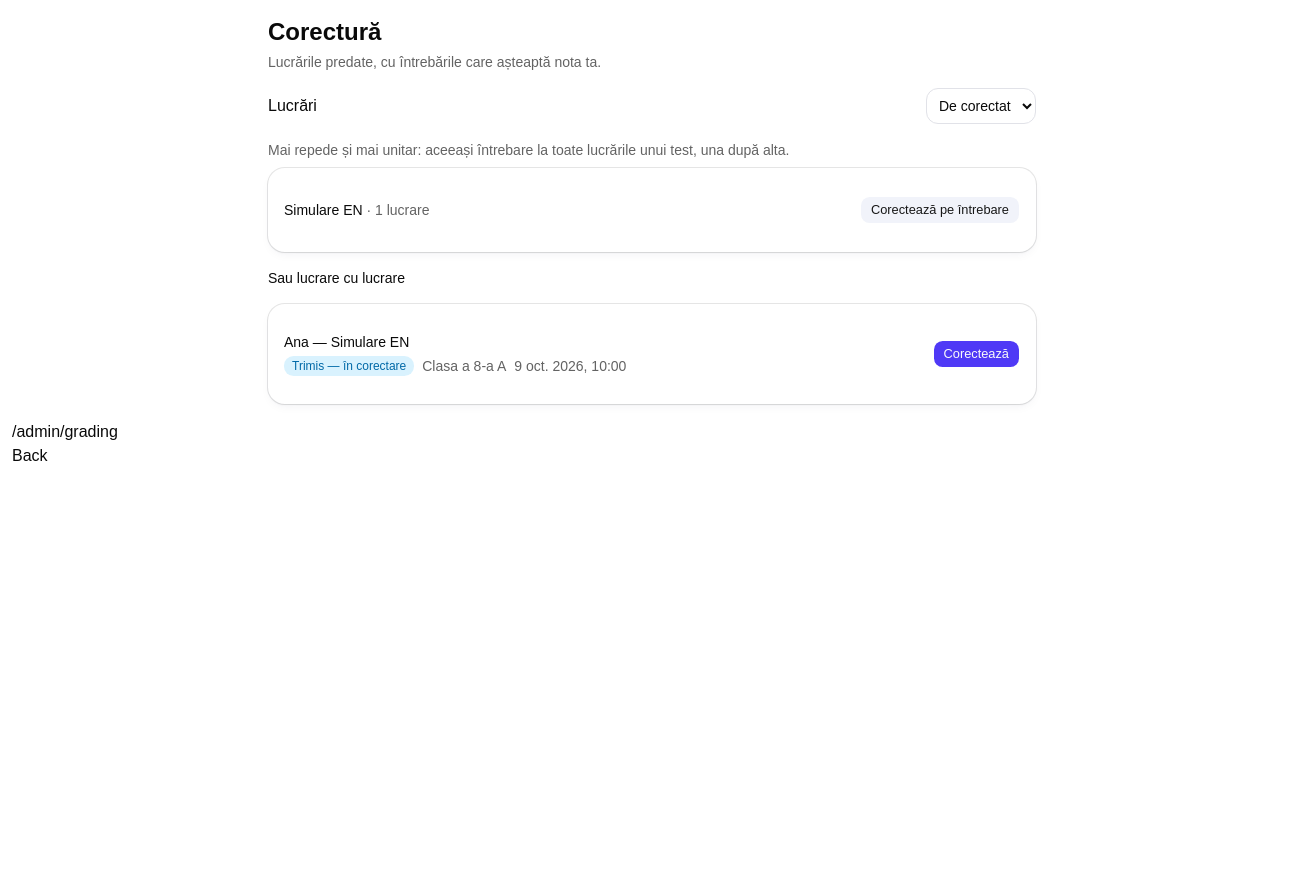
Test: AdminGradingPage › adds a saved comment with one tap and keeps a new one for next time
The width and height of the screenshot is (1292, 890).
Step 1. Click the button with test id "attempt-open" → (976, 354), box [932,340,1020,368]
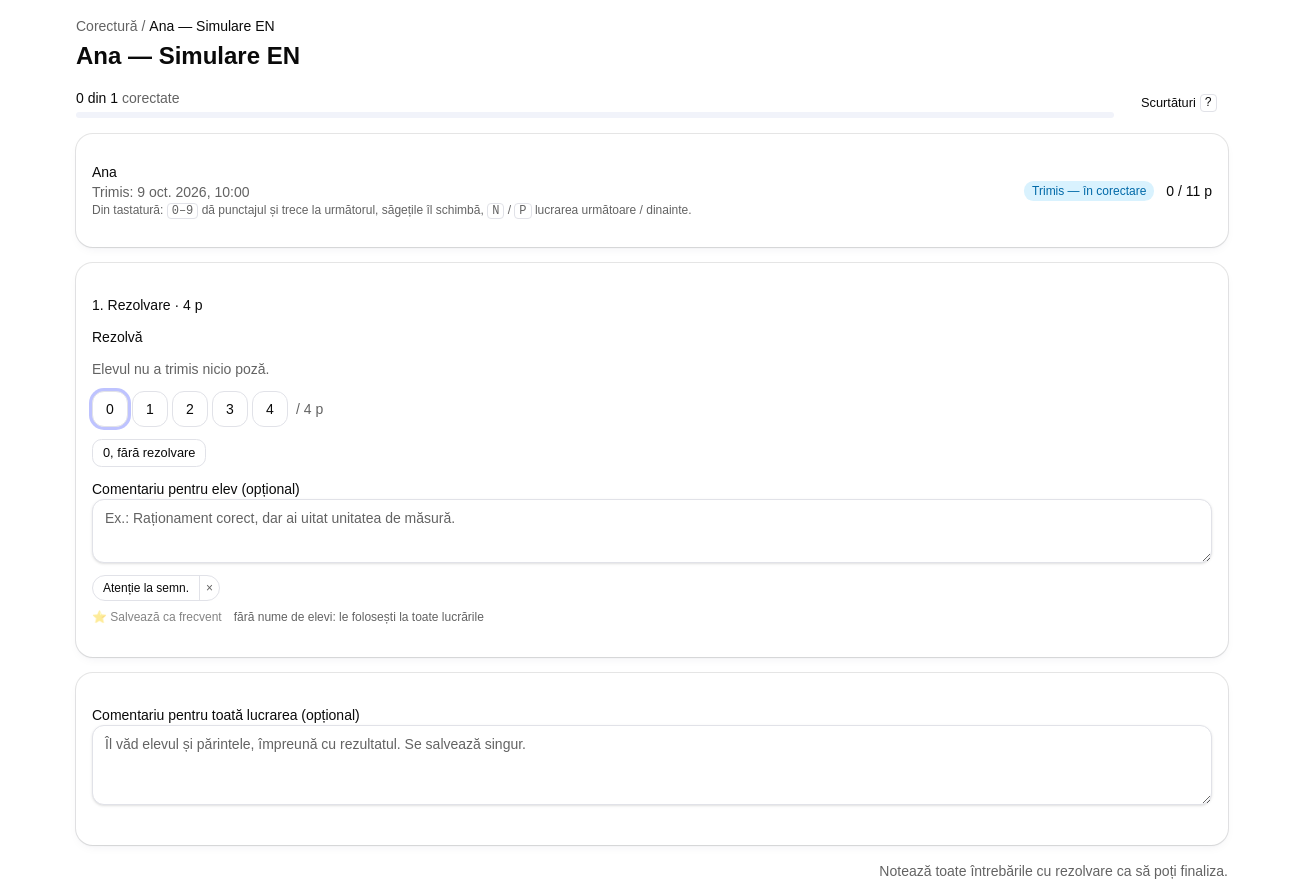
Expected: the text "Rezolvă" is shown, [92,329,143,345]
Step 2. Click the button "Atenție la semn." → (146, 588), box [93,576,199,600]
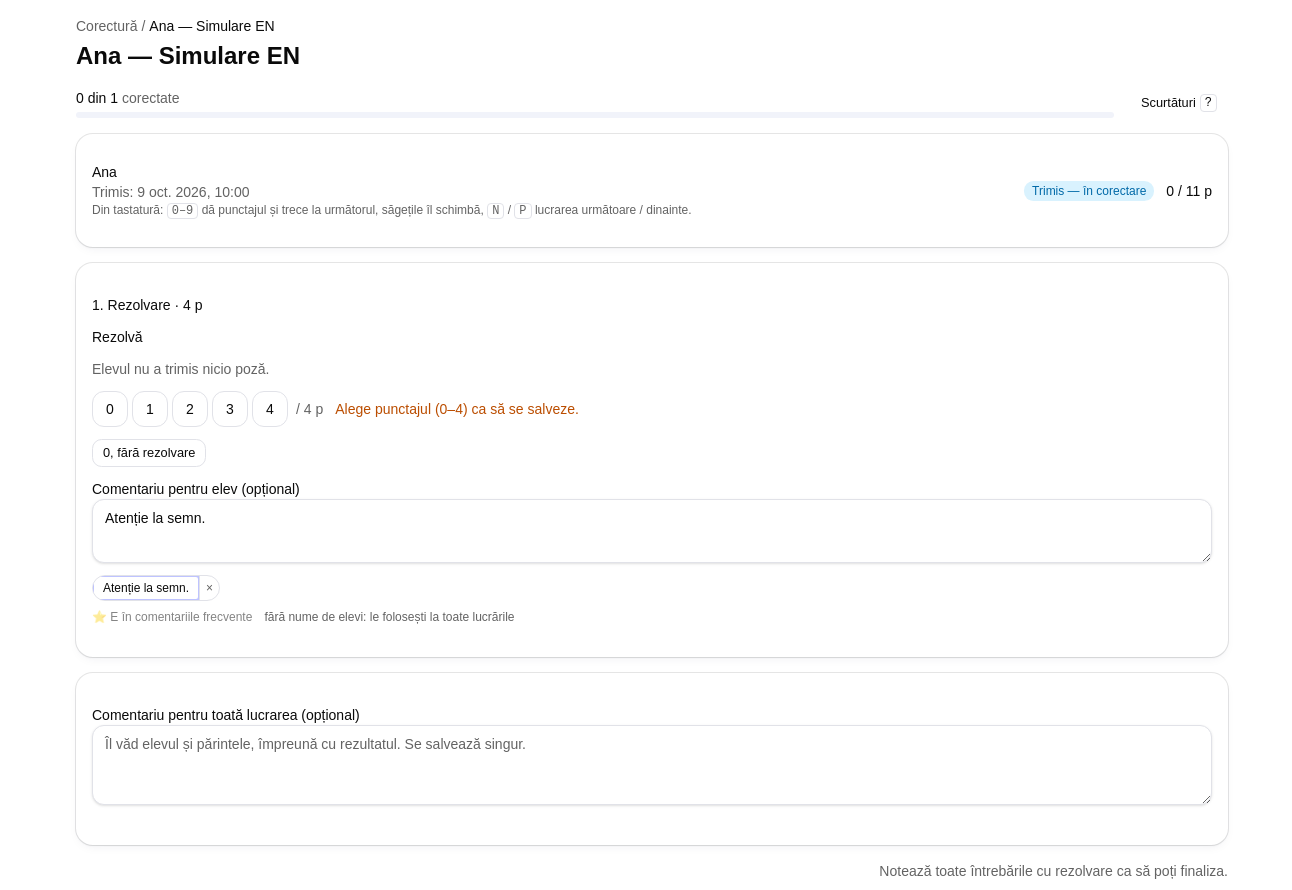
Expected: the text box labelled "Comentariu pentru elev (opțional)" holds "Atenție la semn."
Step 3. Replace the text in the text box labelled "Comentariu pentru elev (opțional)" with "Lipsește unitatea." → (652, 531), box [92,499,1212,563]
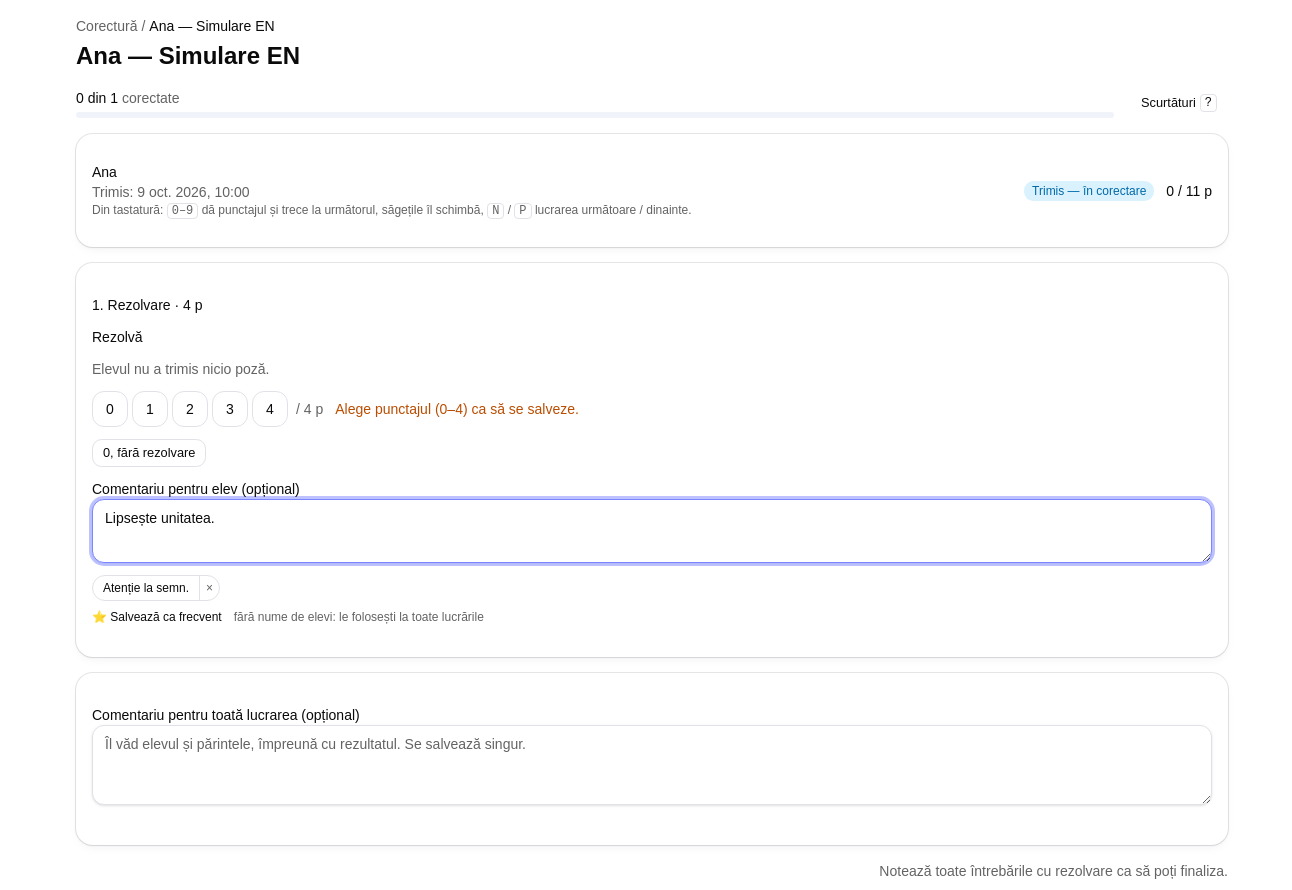
Step 4. Click the button "⭐ Salvează ca frecvent" → (157, 617), box [92,609,222,625]
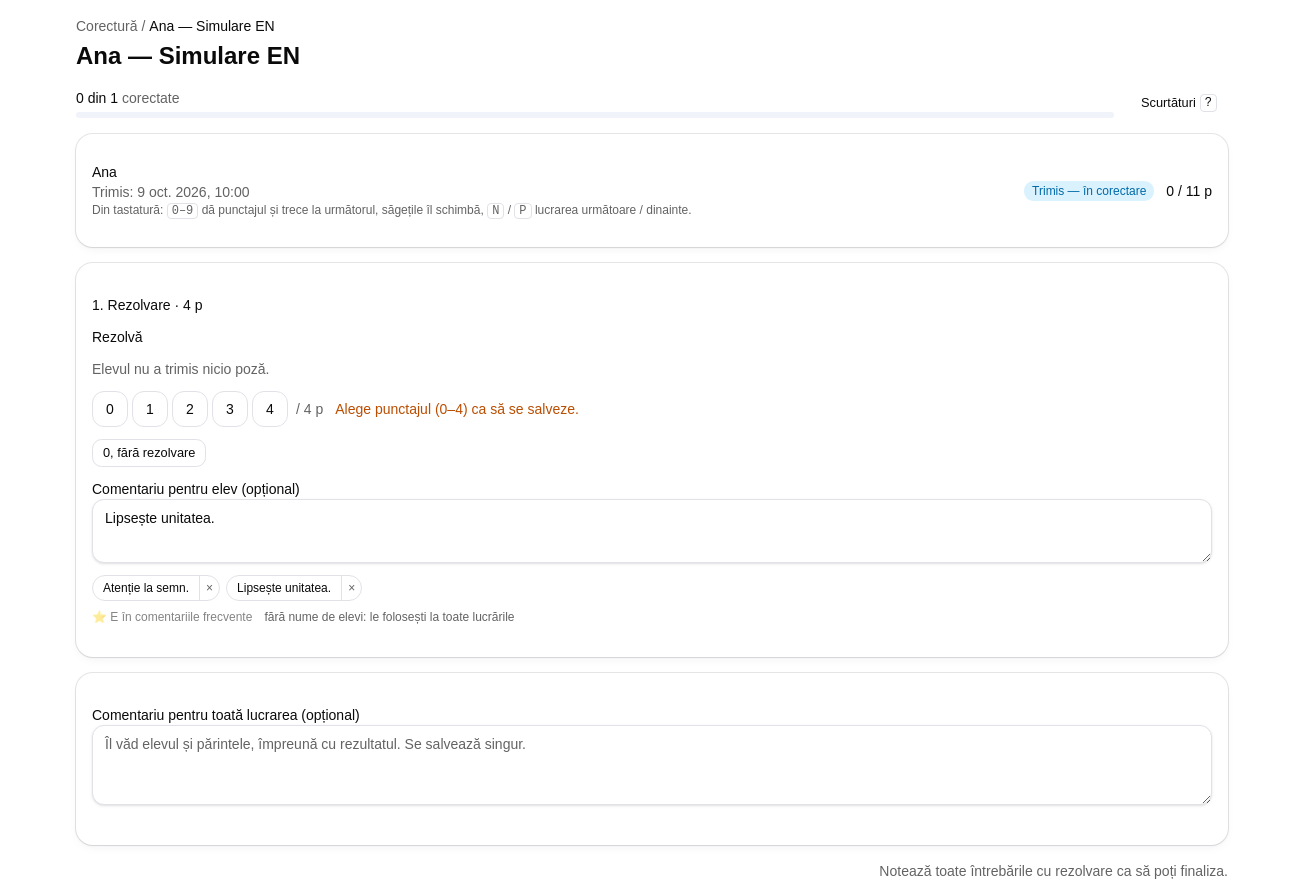
Expected: the button "Lipsește unitatea." is shown, [227,576,341,600]
Expected: the button "⭐ E în comentariile frecvente" is disabled, [92,609,252,625]
